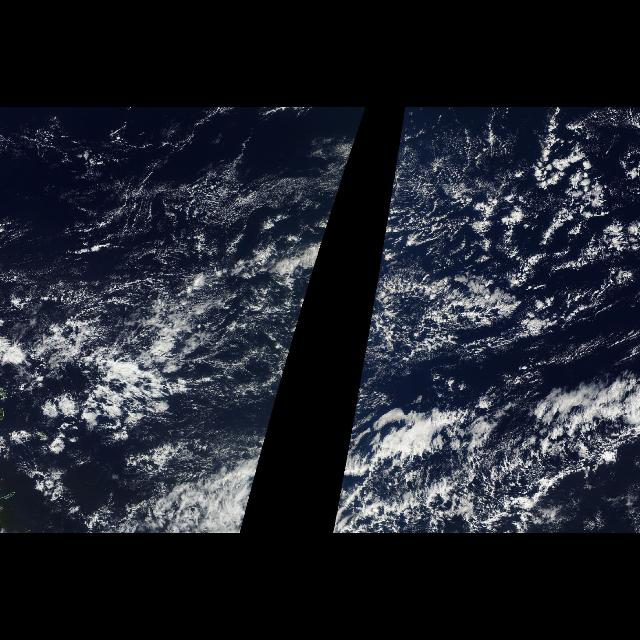Flower: (540, 110, 630, 250)
Sugar: (180, 175, 346, 229), (383, 175, 471, 229)
